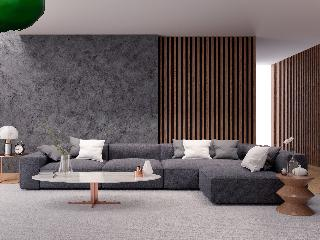lime: (0, 0, 46, 31)
